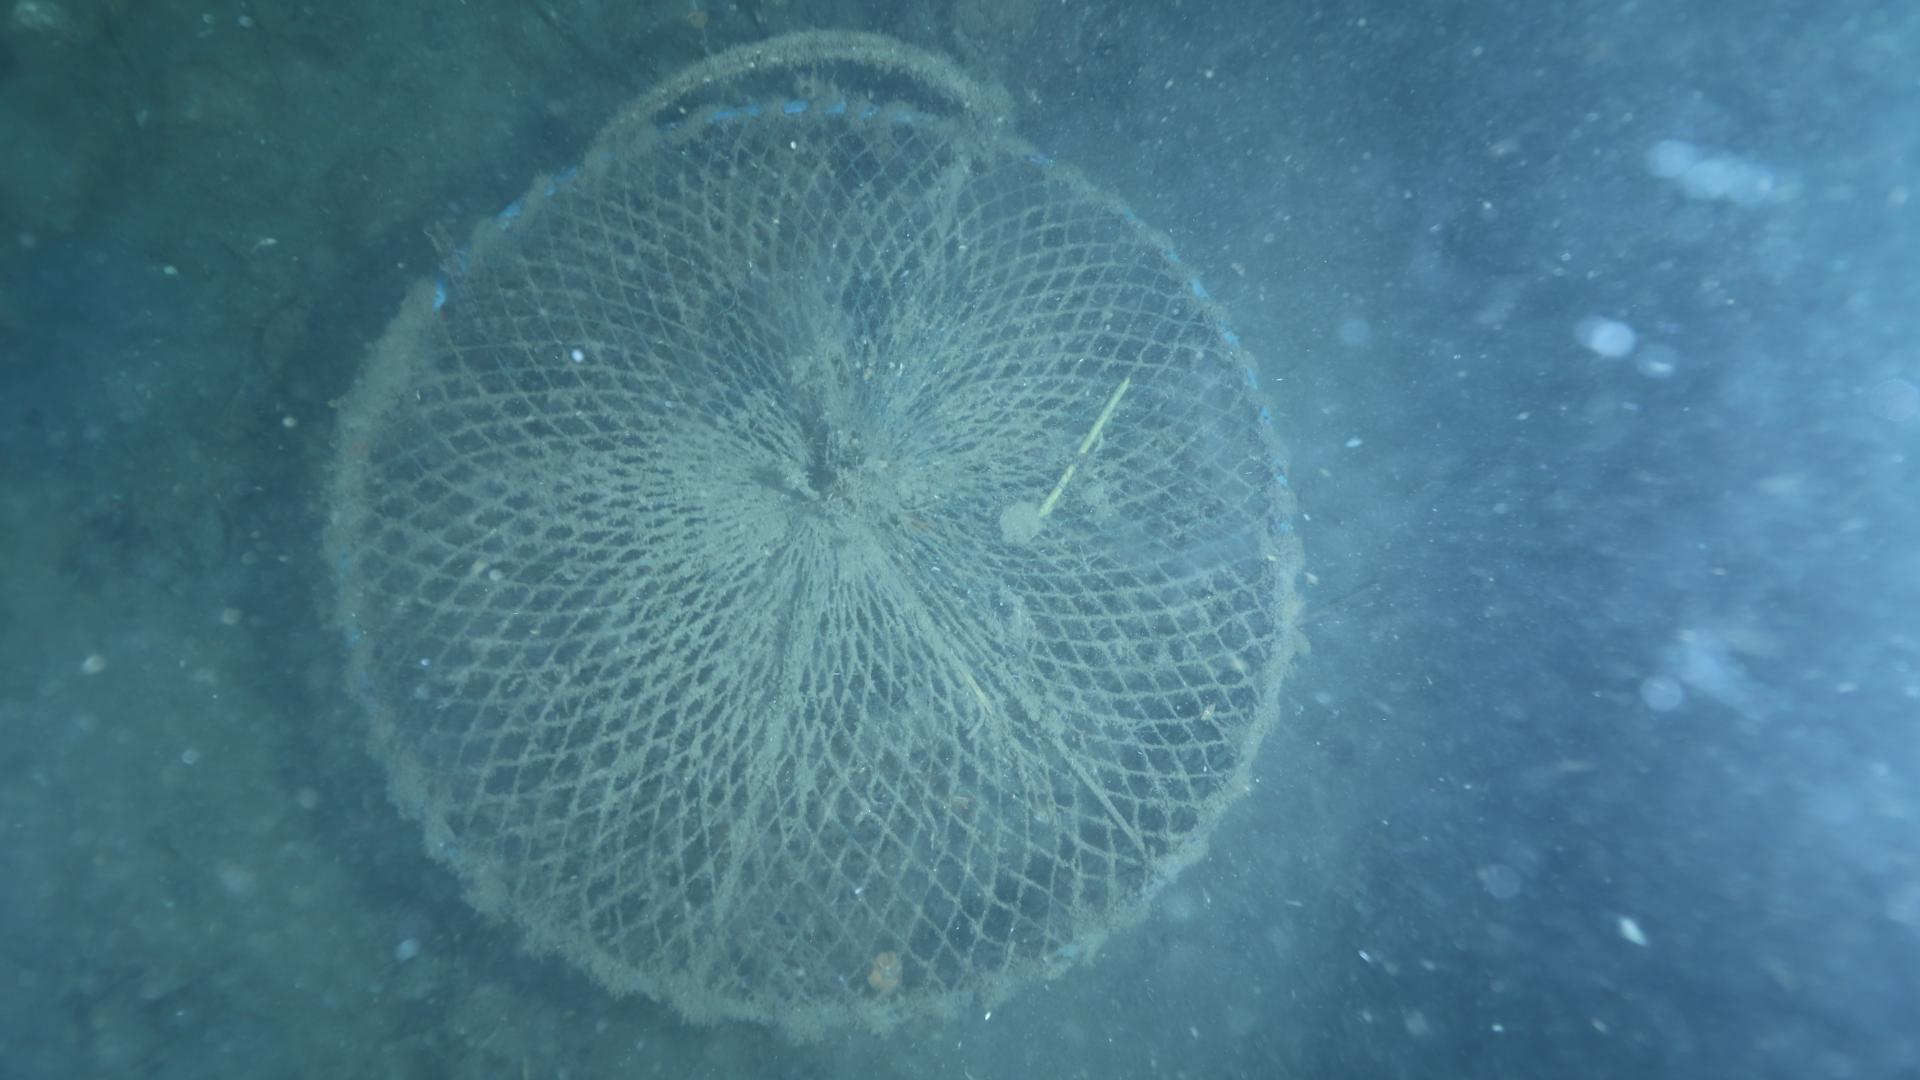circular fish trap: (324, 87, 1317, 1030)
